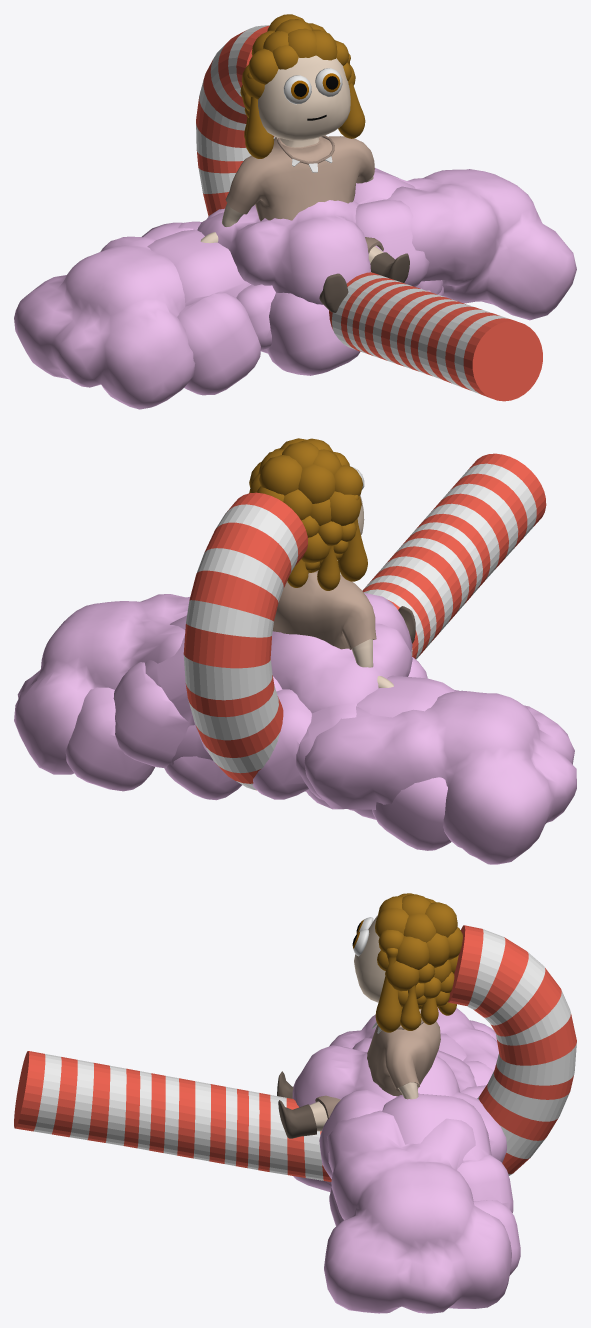
The model's file is YudaCane.fbx.
3 views of the same model, one above another, from view 1: azimuth 30°, elevation 25°; view 2: azimuth 150°, elevation 25°; view 3: azimuth 270°, elevation 25° (orthographic). The views are drawn at different scales.
Parts seen in each view (by area): view 1: polySurface7, pasted__polySurface395; view 2: polySurface7, pasted__polySurface395; view 3: polySurface7, pasted__polySurface395.
Part boxes in pixels (<box>): polySurface7: <box>14,25,576,409</box>; pasted__polySurface395: <box>200,14,409,312</box>; polySurface7: <box>14,453,576,864</box>; pasted__polySurface395: <box>249,438,415,687</box>; polySurface7: <box>14,925,576,1313</box>; pasted__polySurface395: <box>277,893,462,1138</box>.
Size of the model in its own units: 27.22 by 17.34 by 27.43.
